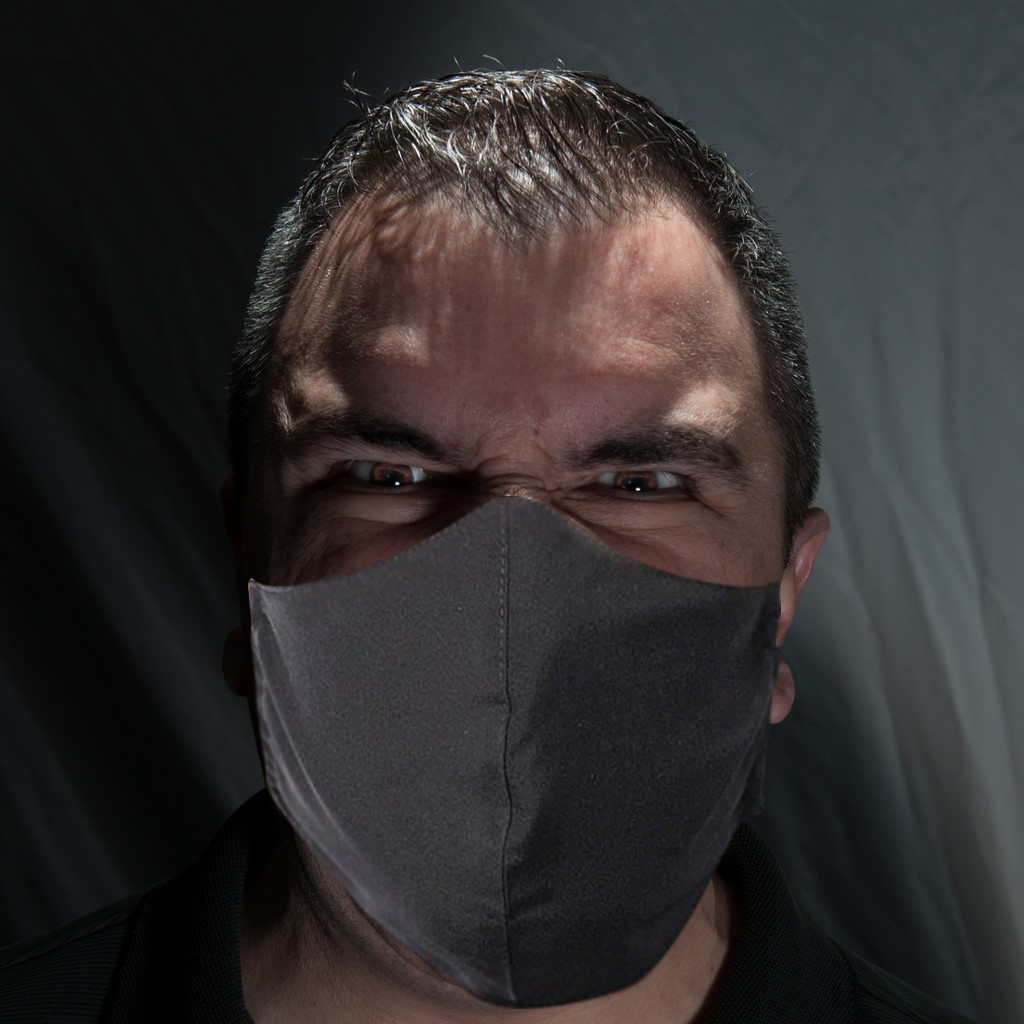con_mascara: (224, 128, 800, 960)
